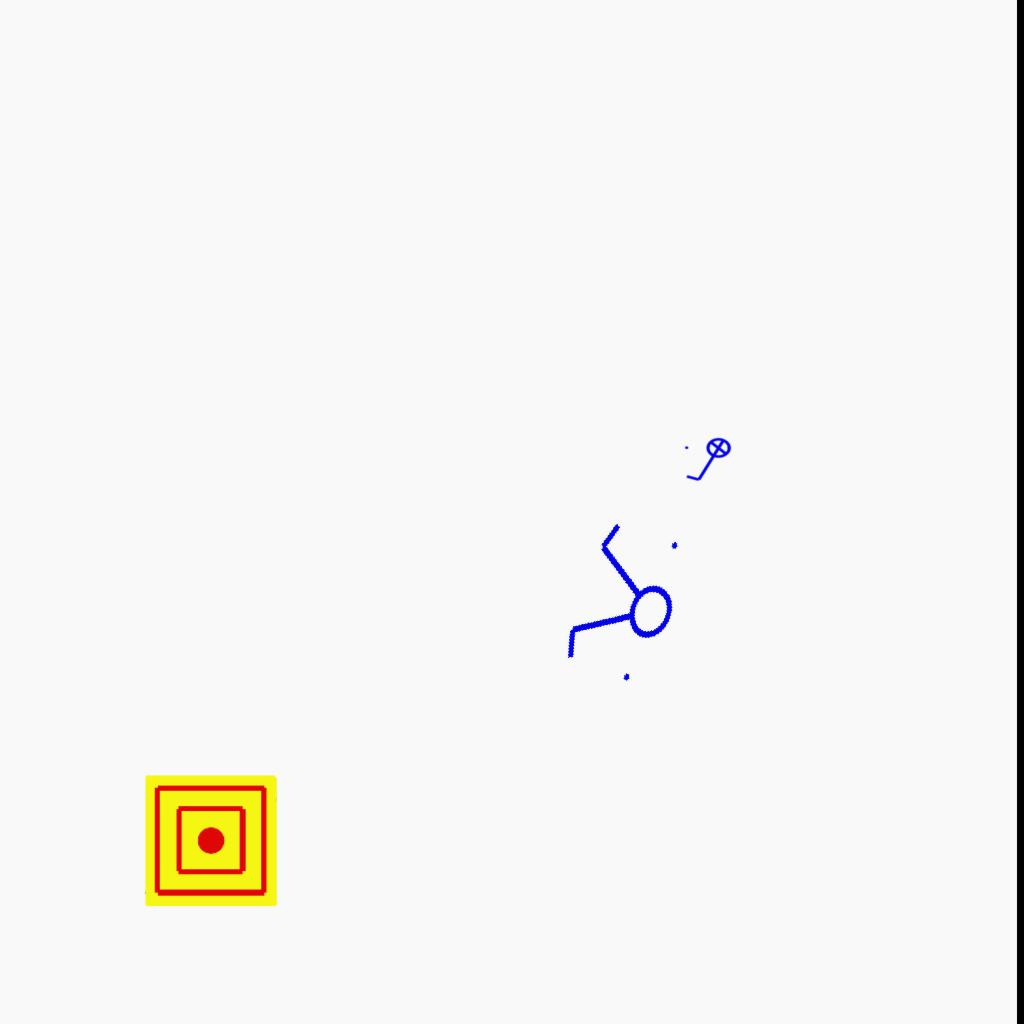Ausschalter_beleuchtet: (682, 437, 738, 485)
NAM-Nichtautomatischer_Melder: (145, 775, 277, 907)
Serienschalter: (552, 508, 700, 700)
